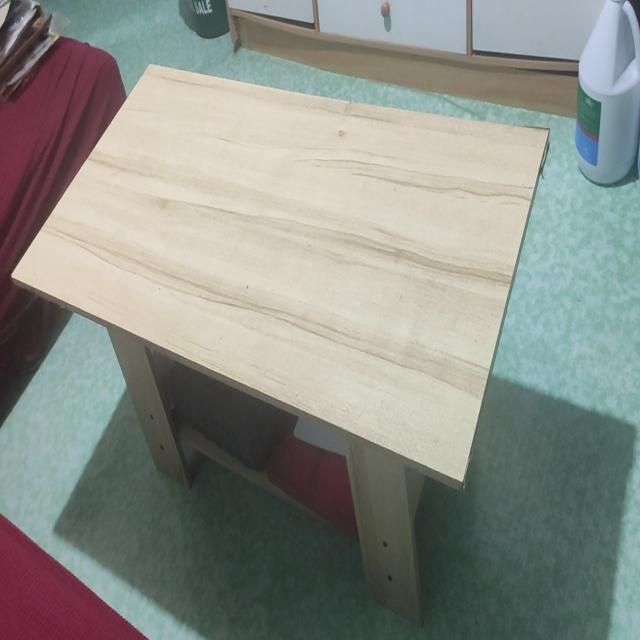table: (15, 54, 554, 619)
